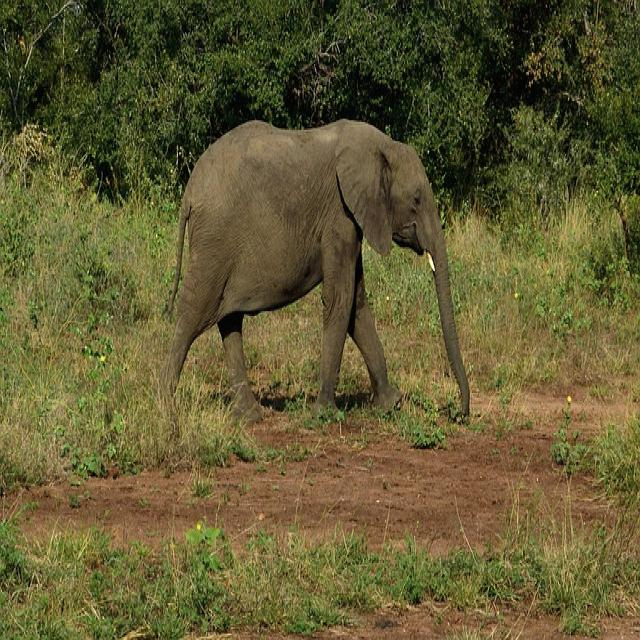FIL: (145, 116, 469, 428)
